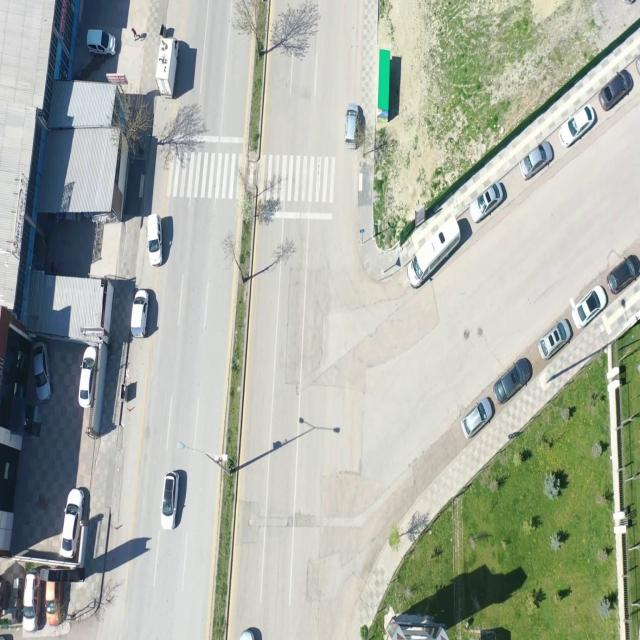p3rson: (131, 28, 140, 42), (50, 261, 58, 273)
